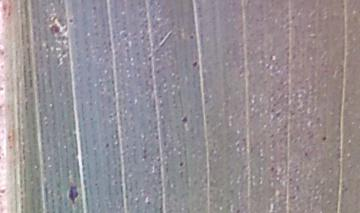tarspot: (63, 179, 83, 208), (189, 56, 203, 74), (178, 111, 191, 127), (300, 147, 314, 160), (177, 158, 187, 172), (318, 132, 330, 143), (103, 139, 113, 152), (186, 30, 195, 44), (234, 206, 243, 213)
